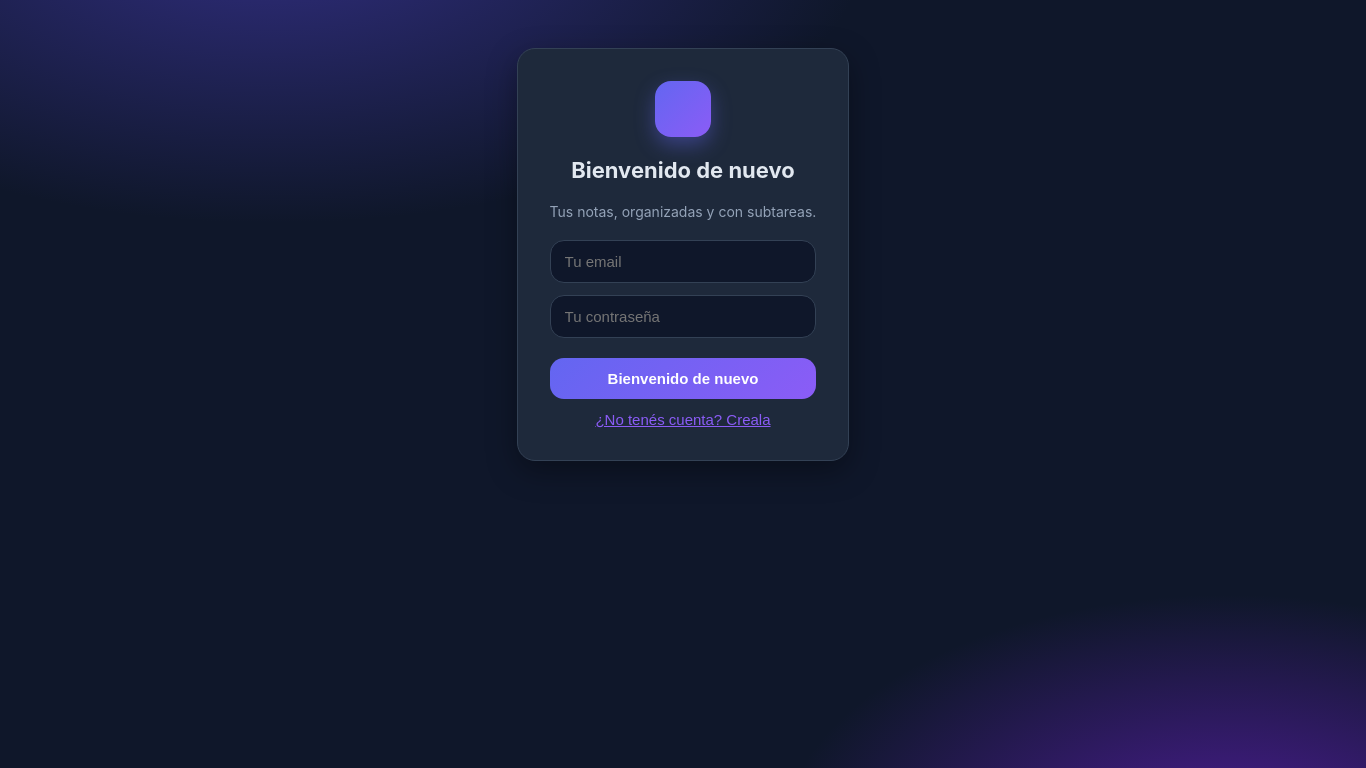
Scenario: FormularioAuth › muestra error cuando el submit falla
In the field with placeholder "Tu email": (683, 262) left=550, top=240, right=816, bottom=283, type "ana@test.com"
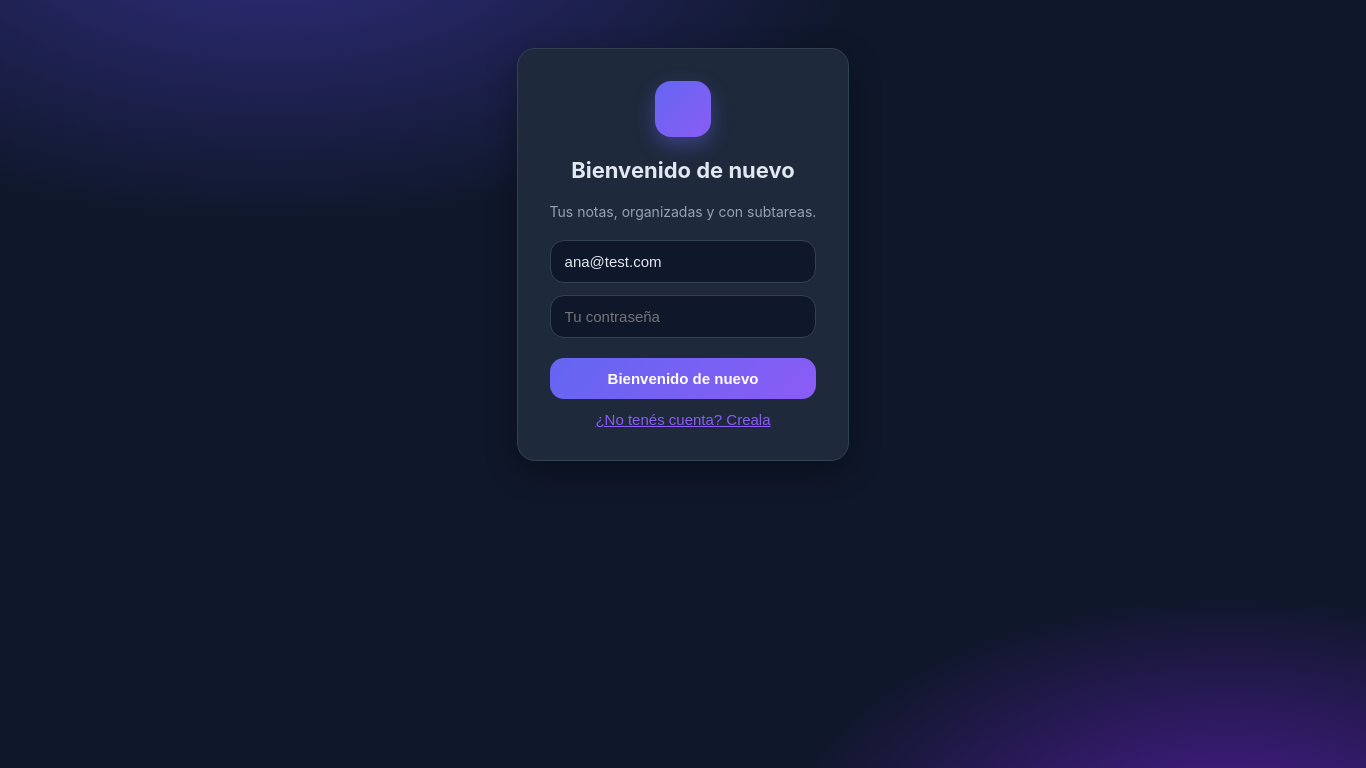
In the password field with placeholder "Tu contraseña": (683, 316) left=550, top=295, right=816, bottom=338, type "clave123"
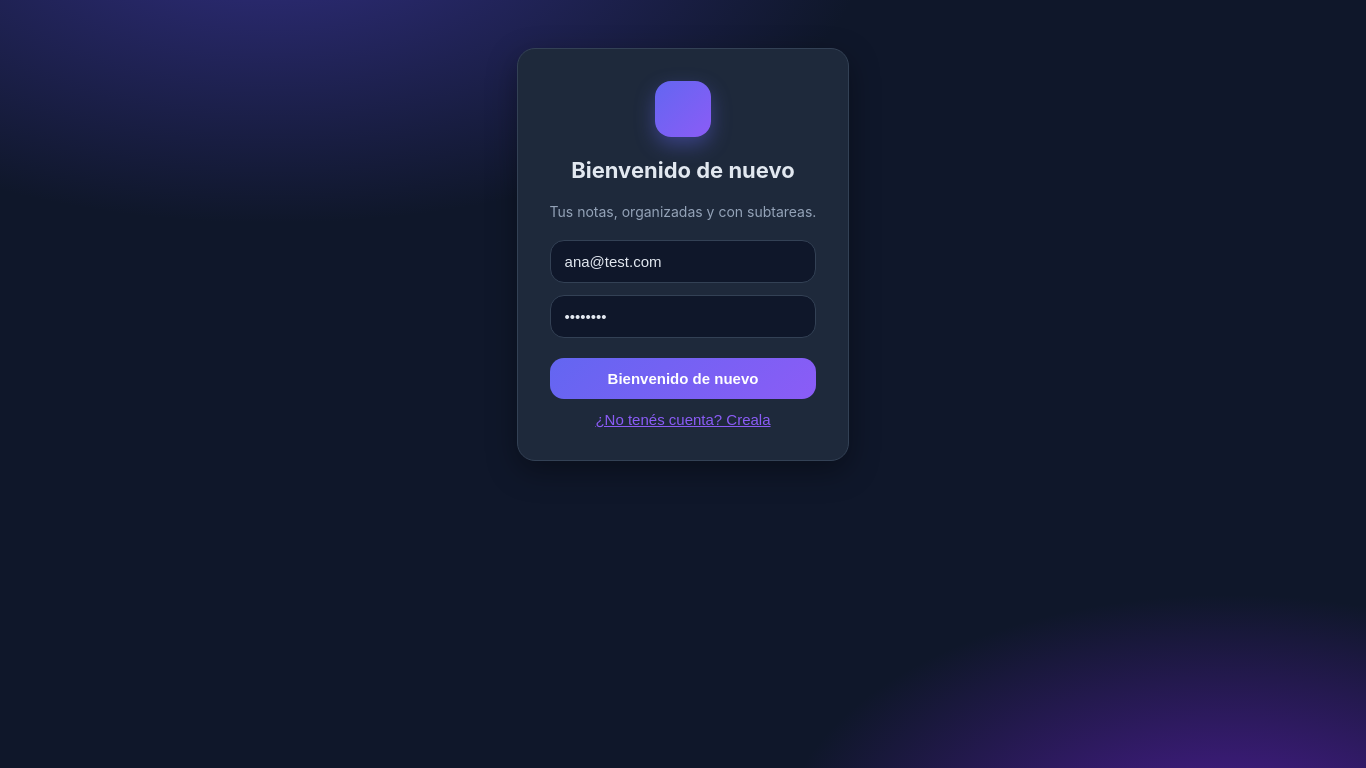
Click the button "Bienvenido de nuevo": (683, 378) left=550, top=358, right=816, bottom=399
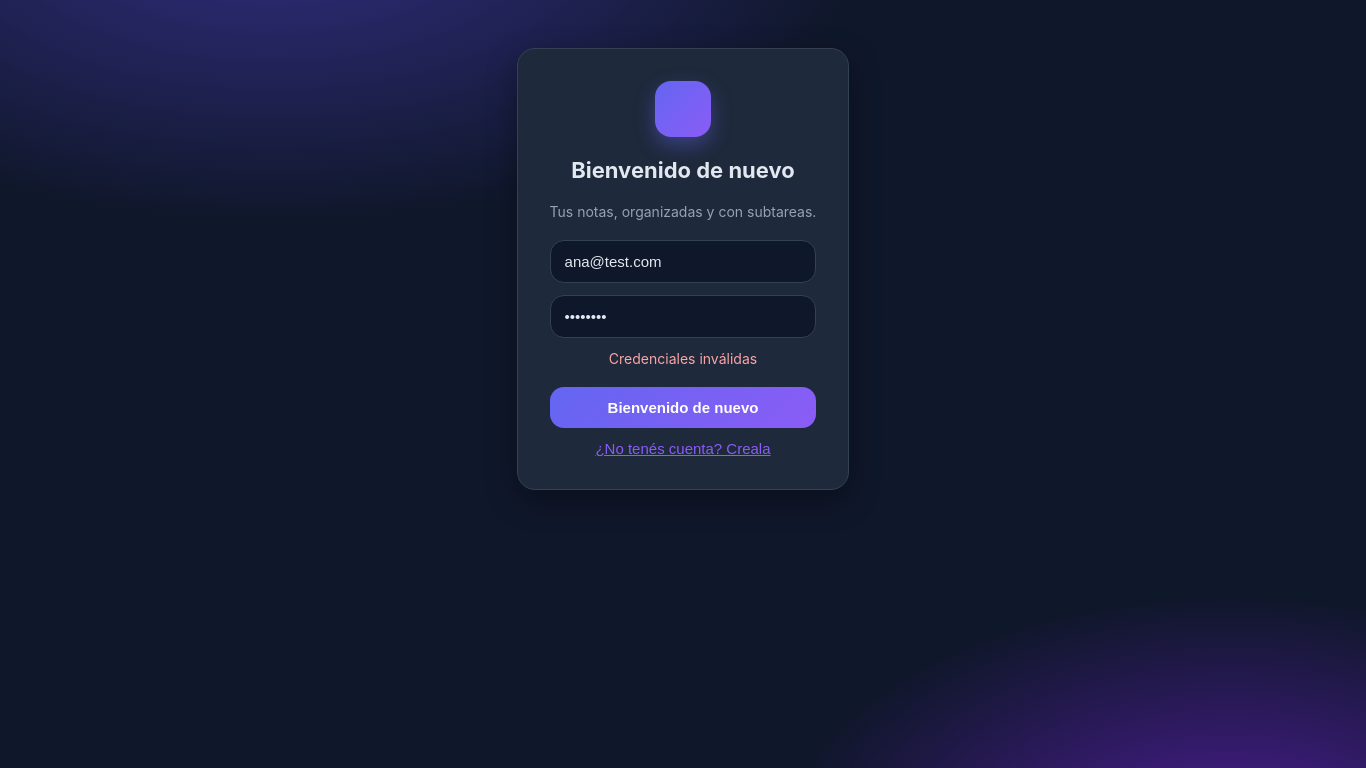
Check: the text "Credenciales inválidas" is shown, box left=609, top=350, right=757, bottom=367
